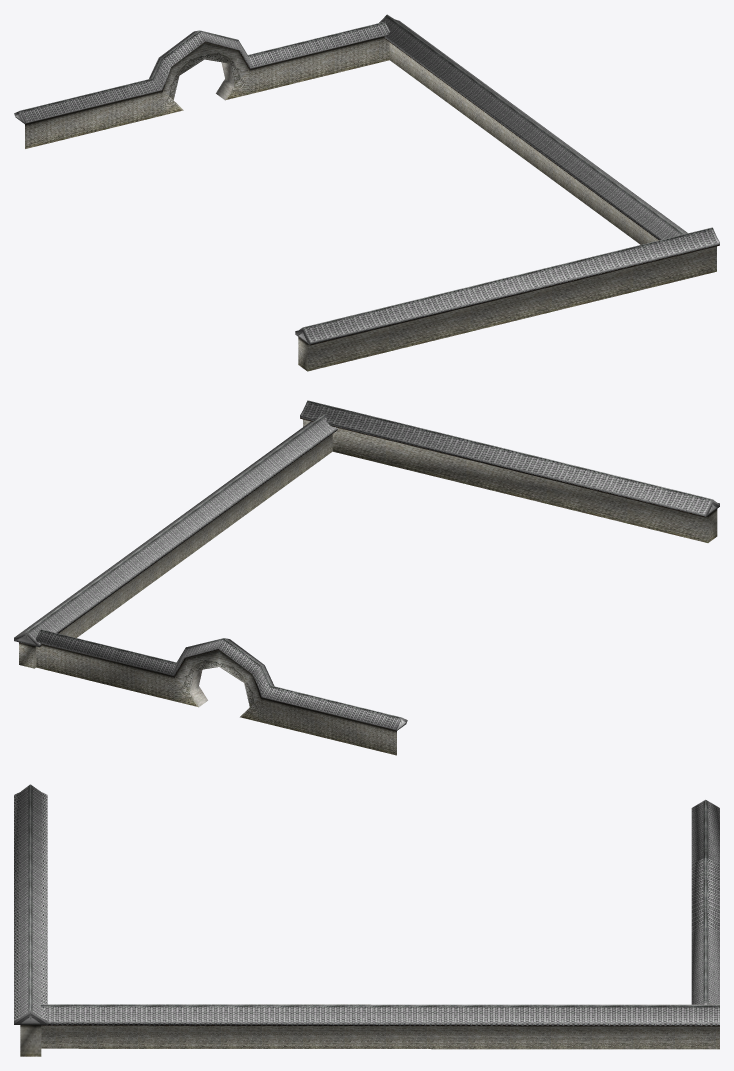
The model's file is cj_rich2_rounddam_1.glb.
3 renders of one model, top to bottom at view 1: azimuth 30°, elevation 25°; view 2: azimuth 150°, elevation 25°; view 3: azimuth 270°, elevation 25°, orthographic. The views are drawn at different scales.
Parts seen in each view (by area): view 1: CJ_rich2_rounddam; view 2: CJ_rich2_rounddam; view 3: CJ_rich2_rounddam.
Part boxes in pixels (<box>): CJ_rich2_rounddam: <box>14,14,719,371</box>; CJ_rich2_rounddam: <box>14,400,719,755</box>; CJ_rich2_rounddam: <box>14,784,719,1056</box>.
Size of the model in its own units: 25.32 by 4.23 by 33.42.
Materials: 1 (1 with a texture image).
